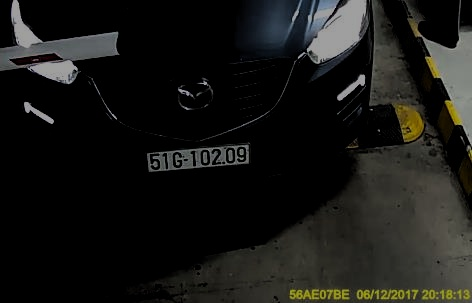plate: (143, 142, 250, 168)
